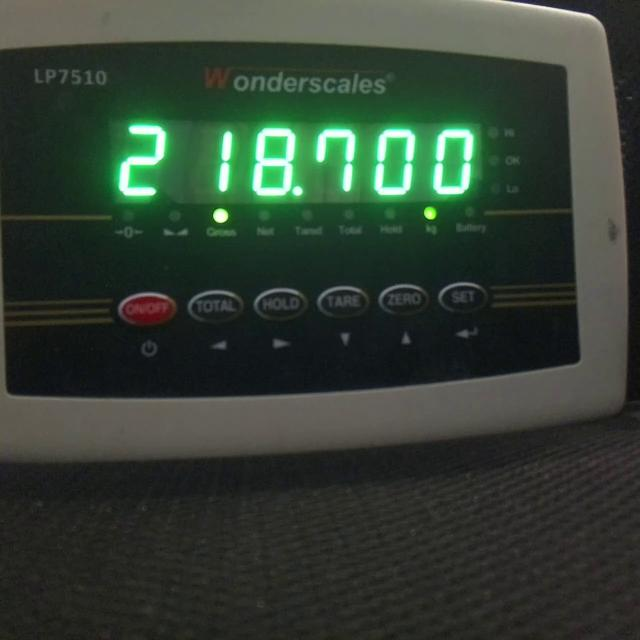.: (292, 186, 302, 196)
0: (374, 128, 416, 195), (433, 128, 474, 194)
1: (217, 131, 233, 192)
2: (118, 124, 166, 197)
7: (315, 128, 356, 193)
8: (252, 126, 296, 199)
